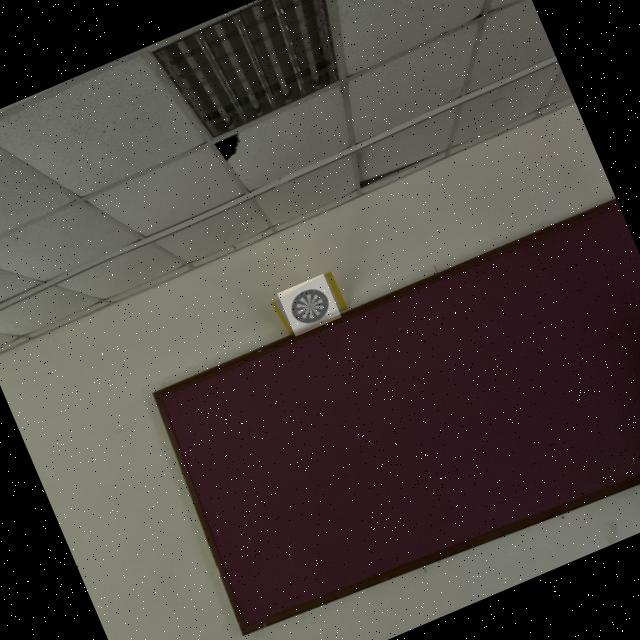archery-targets: (277, 273, 341, 336)
